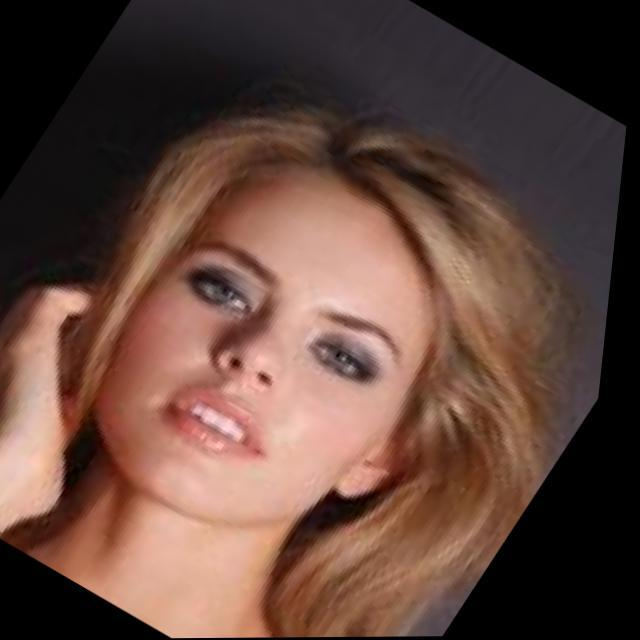Nonhelmet: (4, 96, 483, 552)
